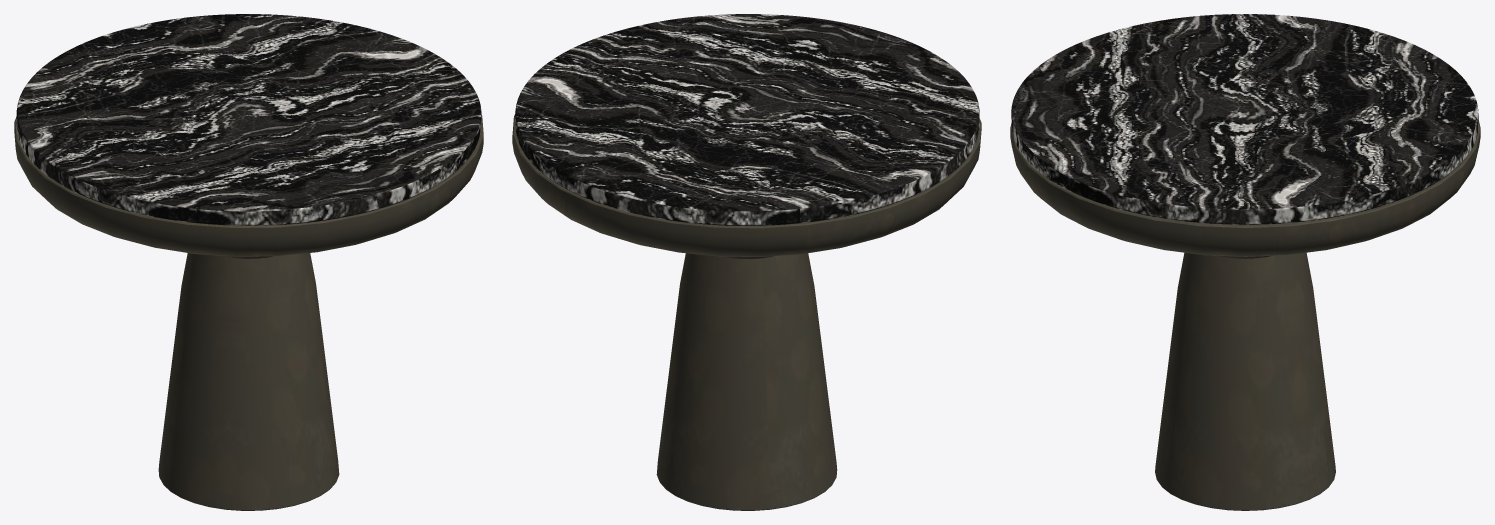
The model's file is pedestal.glb.
3 views of the same model, side by side, from view 1: azimuth 30°, elevation 25°; view 2: azimuth 150°, elevation 25°; view 3: azimuth 270°, elevation 25° (orthographic).
Parts seen in each view (by area): view 1: Top, Base; view 2: Top, Base; view 3: Top, Base.
Boxes of the visible parts, box(x1,y1,x2,y2) form: Top: box(16, 14, 481, 225); Base: box(14, 115, 483, 510); Top: box(515, 14, 979, 225); Base: box(512, 114, 981, 510); Top: box(1011, 14, 1478, 224); Base: box(1010, 120, 1480, 510).
Bounding box in the file's own units: 0.4571 × 0.3873 × 0.4571.
Materials: 2 (2 with a texture image).
